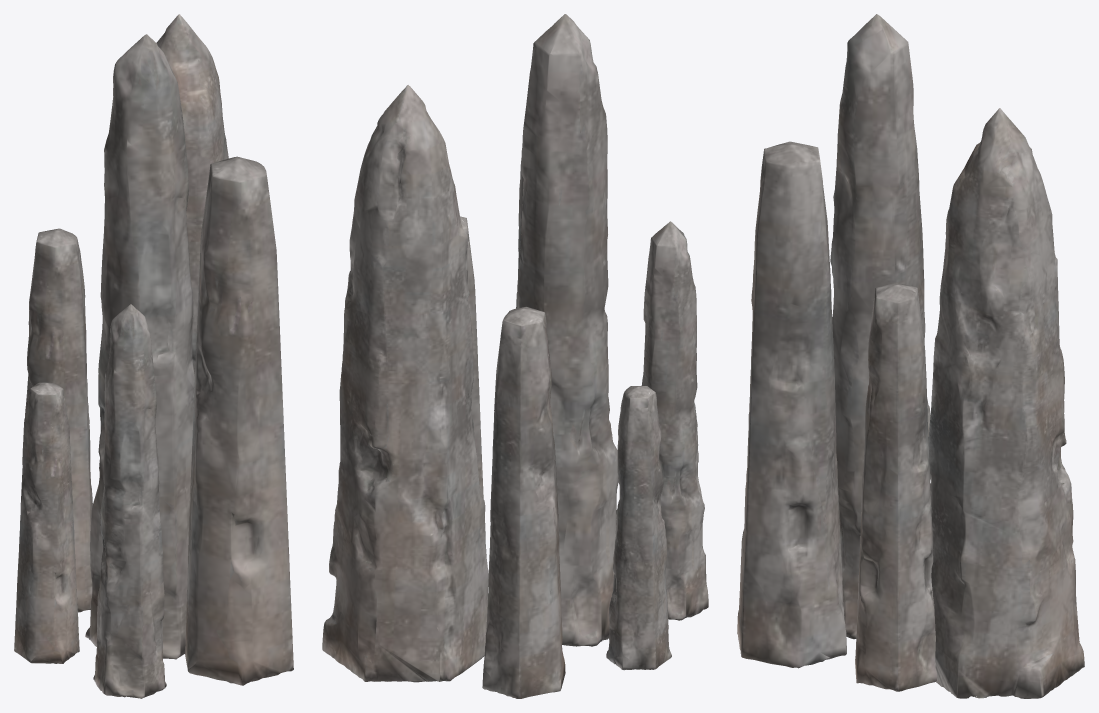
The model's file is SM_stalagmite_05.glb.
3 views of the same model, side by side, from view 1: azimuth 30°, elevation 25°; view 2: azimuth 150°, elevation 25°; view 3: azimuth 270°, elevation 25° (orthographic).
Parts seen in each view (by area): view 1: SM_stalactic_05; view 2: SM_stalactic_05; view 3: SM_stalactic_05.
Part boxes in pixels (bbox=[...]): SM_stalactic_05: bbox=[14, 14, 293, 698]; SM_stalactic_05: bbox=[322, 14, 708, 698]; SM_stalactic_05: bbox=[737, 14, 1084, 698].
Bounding box in the file's own units: 4.66 × 10.06 × 5.22.
1 material, 1 textured.
